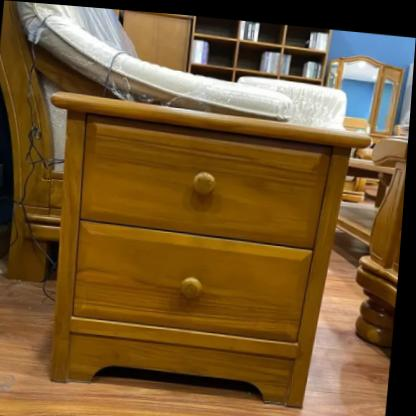Nightstand: (48, 94, 337, 404)
